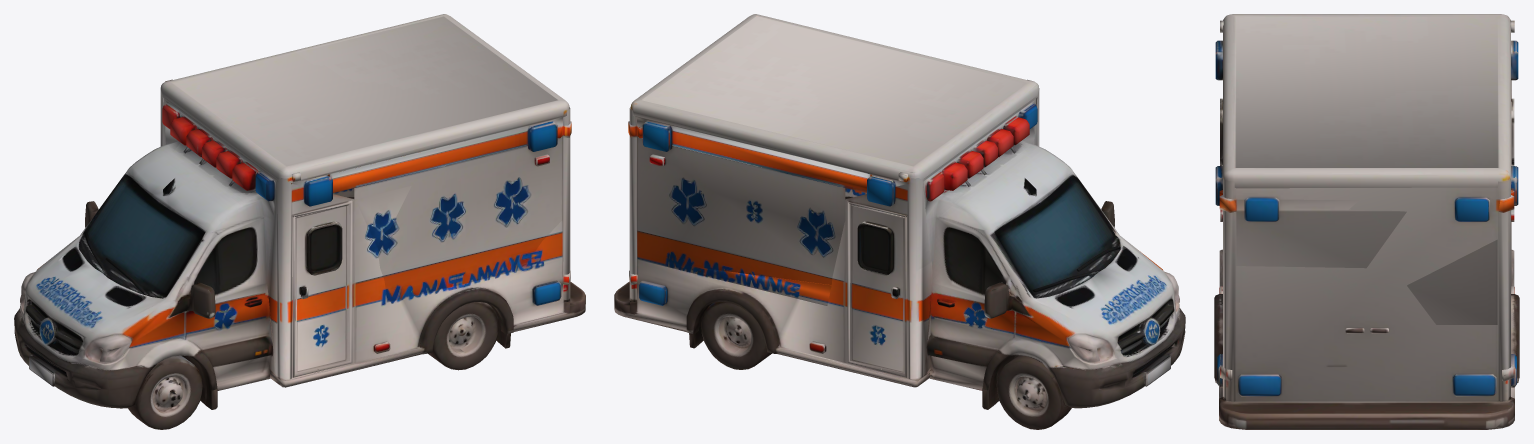
The model's file is an_ambulance_8617a018_v1.glb.
3 views of the same model, side by side, from view 1: azimuth 30°, elevation 25°; view 2: azimuth 150°, elevation 25°; view 3: azimuth 270°, elevation 25° (orthographic). The views are drawn at different scales.
Parts seen in each view (by area): view 1: material; view 2: material; view 3: material.
Boxes of the visible parts, x1,y1,x2,y2 form: material: [14, 14, 585, 429]; material: [614, 14, 1185, 429]; material: [1214, 14, 1519, 429].
Size of the model in its own units: 1.9 by 0.9041 by 0.8924.
Materials: 1 (1 with a texture image).
